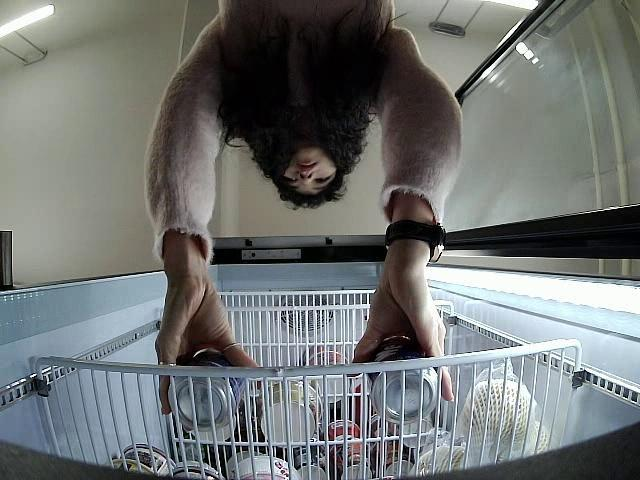14_welchsGrape: (167, 348, 248, 428), (366, 338, 439, 426)
